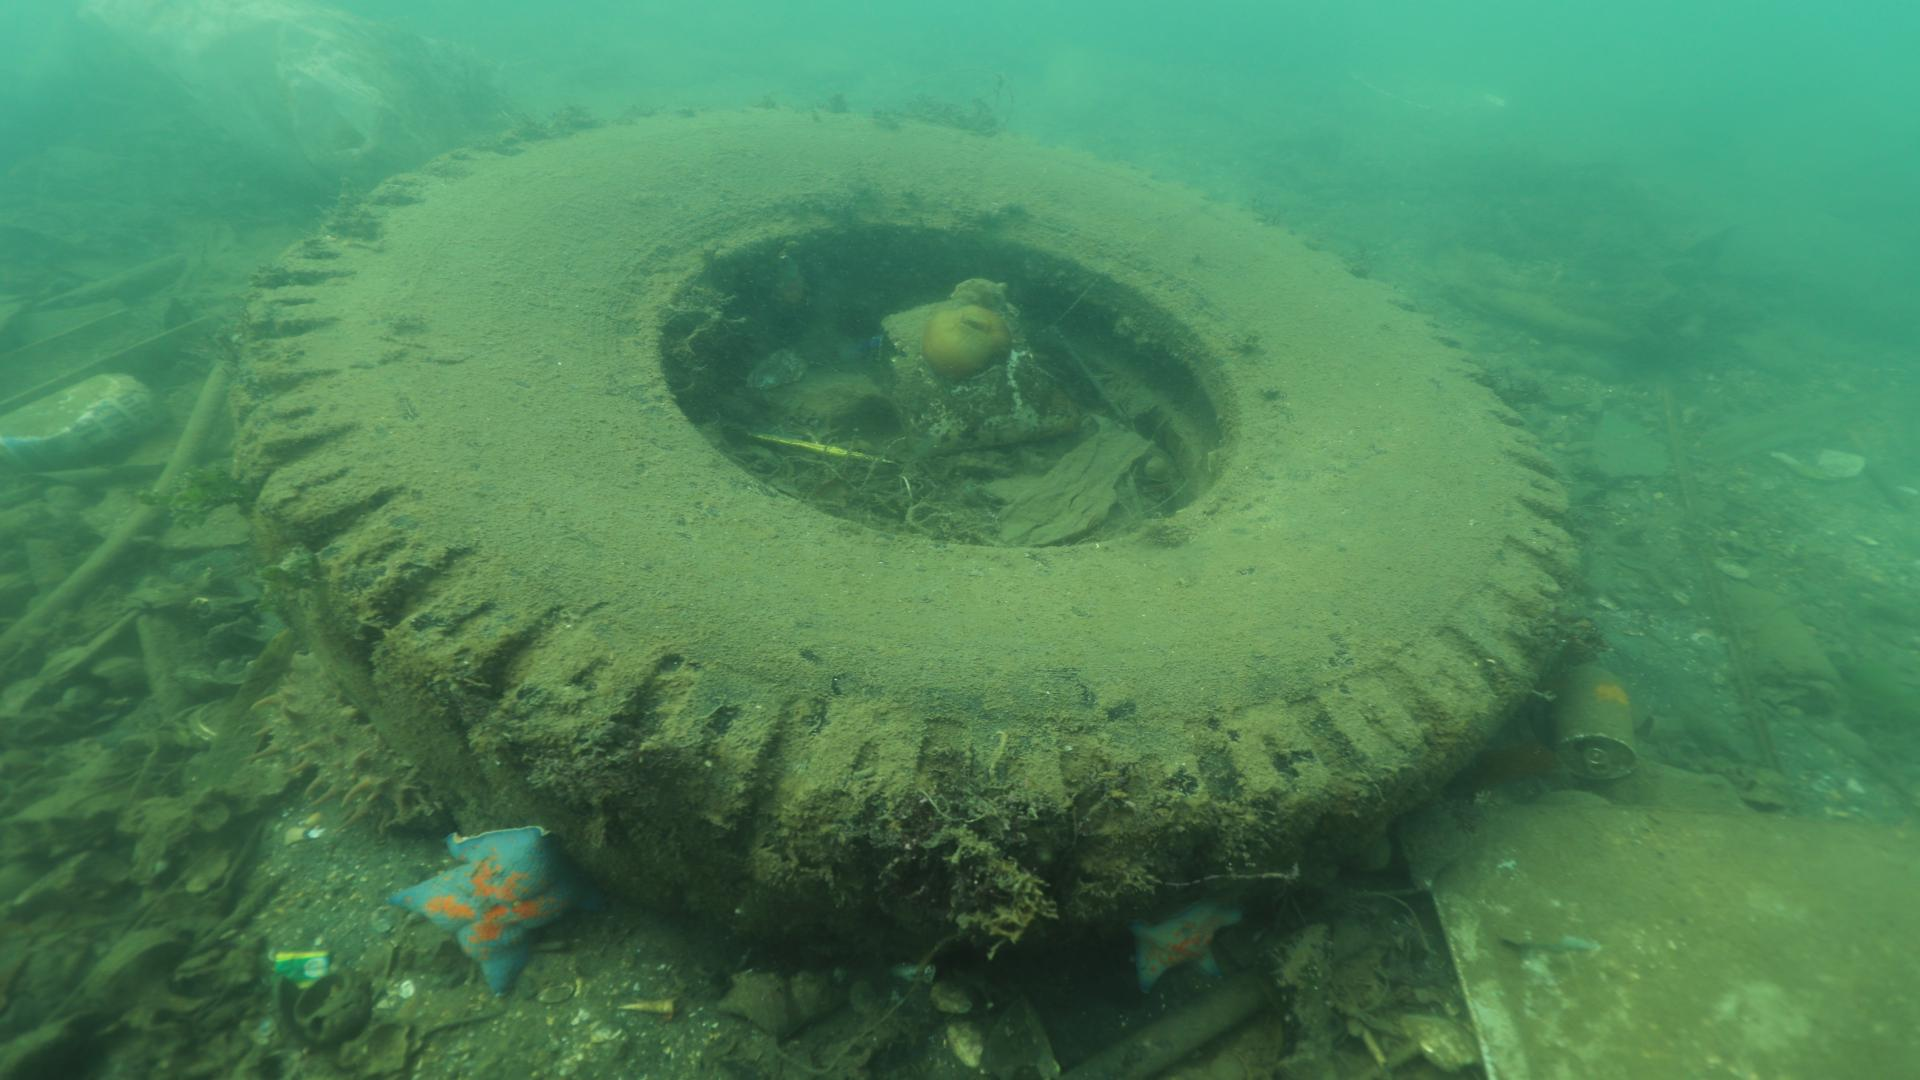tire: (227, 95, 1582, 967)
